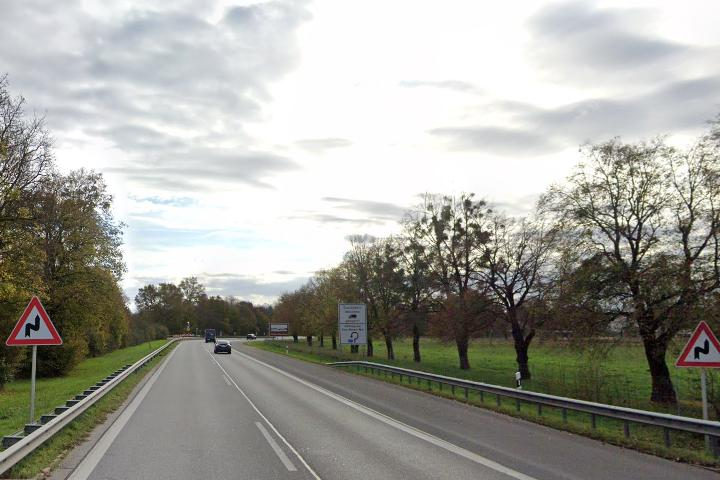traffic_sign: (3, 295, 62, 345), (673, 320, 720, 367)
vehicle: (213, 339, 233, 355)
